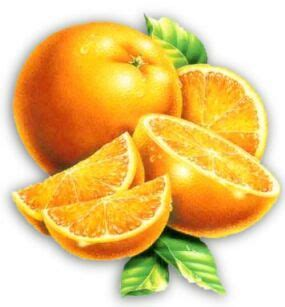orange: (12, 20, 183, 169)
